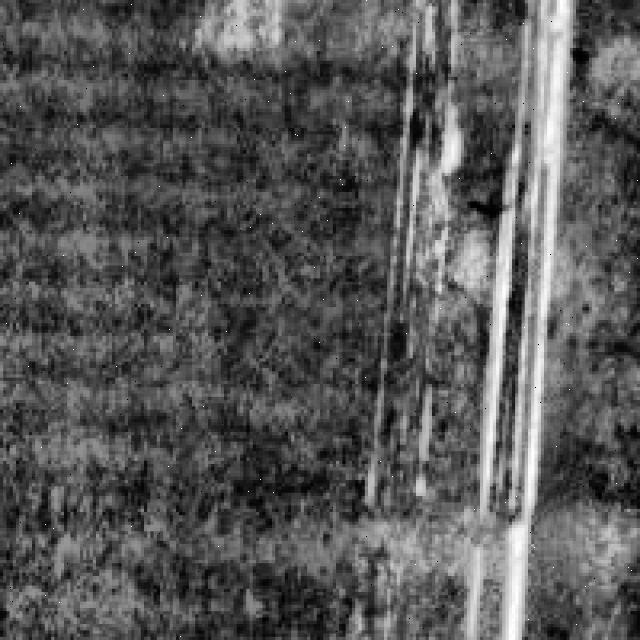Inclusion: (461, 0, 573, 634), (388, 86, 460, 240)
